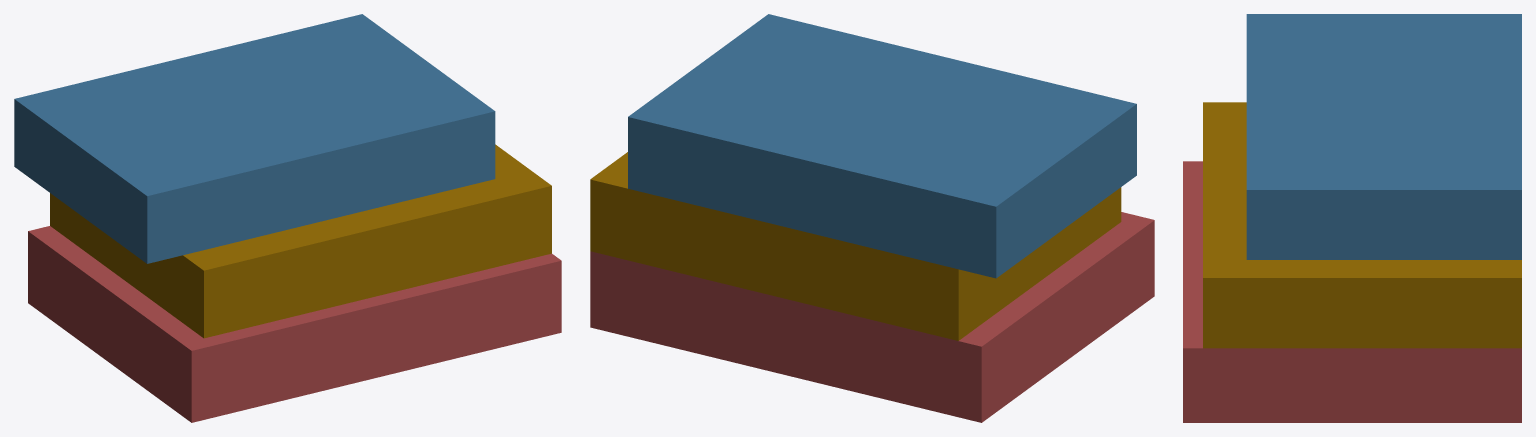
Rendered from BookStackVar2Geo.fbx.
3 renders of one model, left to right at view 1: azimuth 30°, elevation 25°; view 2: azimuth 150°, elevation 25°; view 3: azimuth 270°, elevation 25°, orthographic. The views are drawn at different scales.
Parts seen in each view (by area): view 1: BookStackVar2Geo; view 2: BookStackVar2Geo; view 3: BookStackVar2Geo.
Boxes of the visible parts, x1,y1,x2,y2 form: BookStackVar2Geo: [14, 14, 561, 422]; BookStackVar2Geo: [590, 14, 1154, 422]; BookStackVar2Geo: [1183, 14, 1521, 422].
Size of the model in its own units: 56.37 by 29.15 by 41.63.
